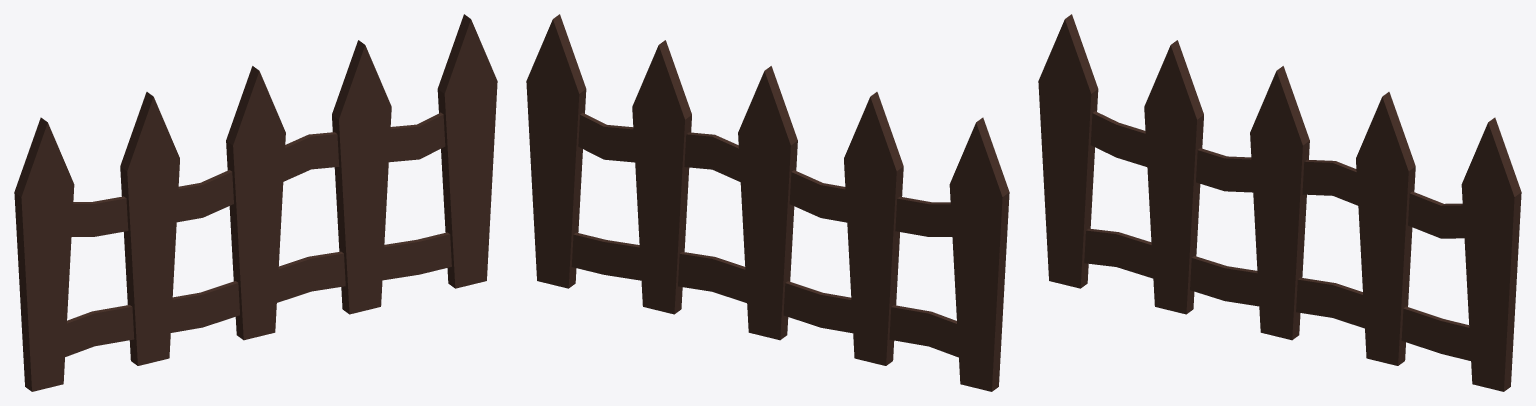
Rendered from CercaMadeiraFechadaAmbosLados.fbx.
The picture shows the model from 3 angles, left to right: view 1: azimuth 30°, elevation 25°; view 2: azimuth 150°, elevation 25°; view 3: azimuth 330°, elevation 25°; orthographic projection.
Parts seen in each view (by area): view 1: CercaMadeira04; view 2: CercaMadeira04; view 3: CercaMadeira04.
Boxes of the visible parts, bbox=[...] form: CercaMadeira04: bbox=[14, 14, 497, 391]; CercaMadeira04: bbox=[526, 14, 1009, 391]; CercaMadeira04: bbox=[1038, 14, 1521, 391].
Bounding box in the file's own units: 687 × 366 × 17.59.
